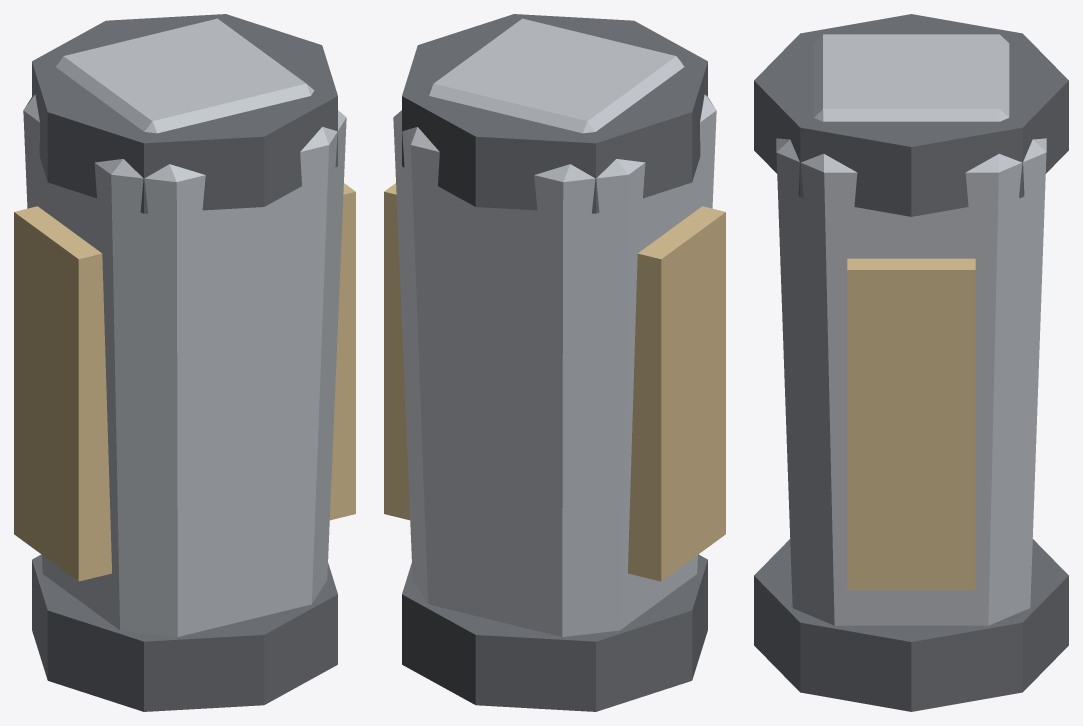
Rendered from bastion.boom.glb.
3 renders of one model, left to right at view 1: azimuth 30°, elevation 25°; view 2: azimuth 150°, elevation 25°; view 3: azimuth 270°, elevation 25°, orthographic.
Size of the model in its own units: 0.792 by 1.6 by 0.784.
